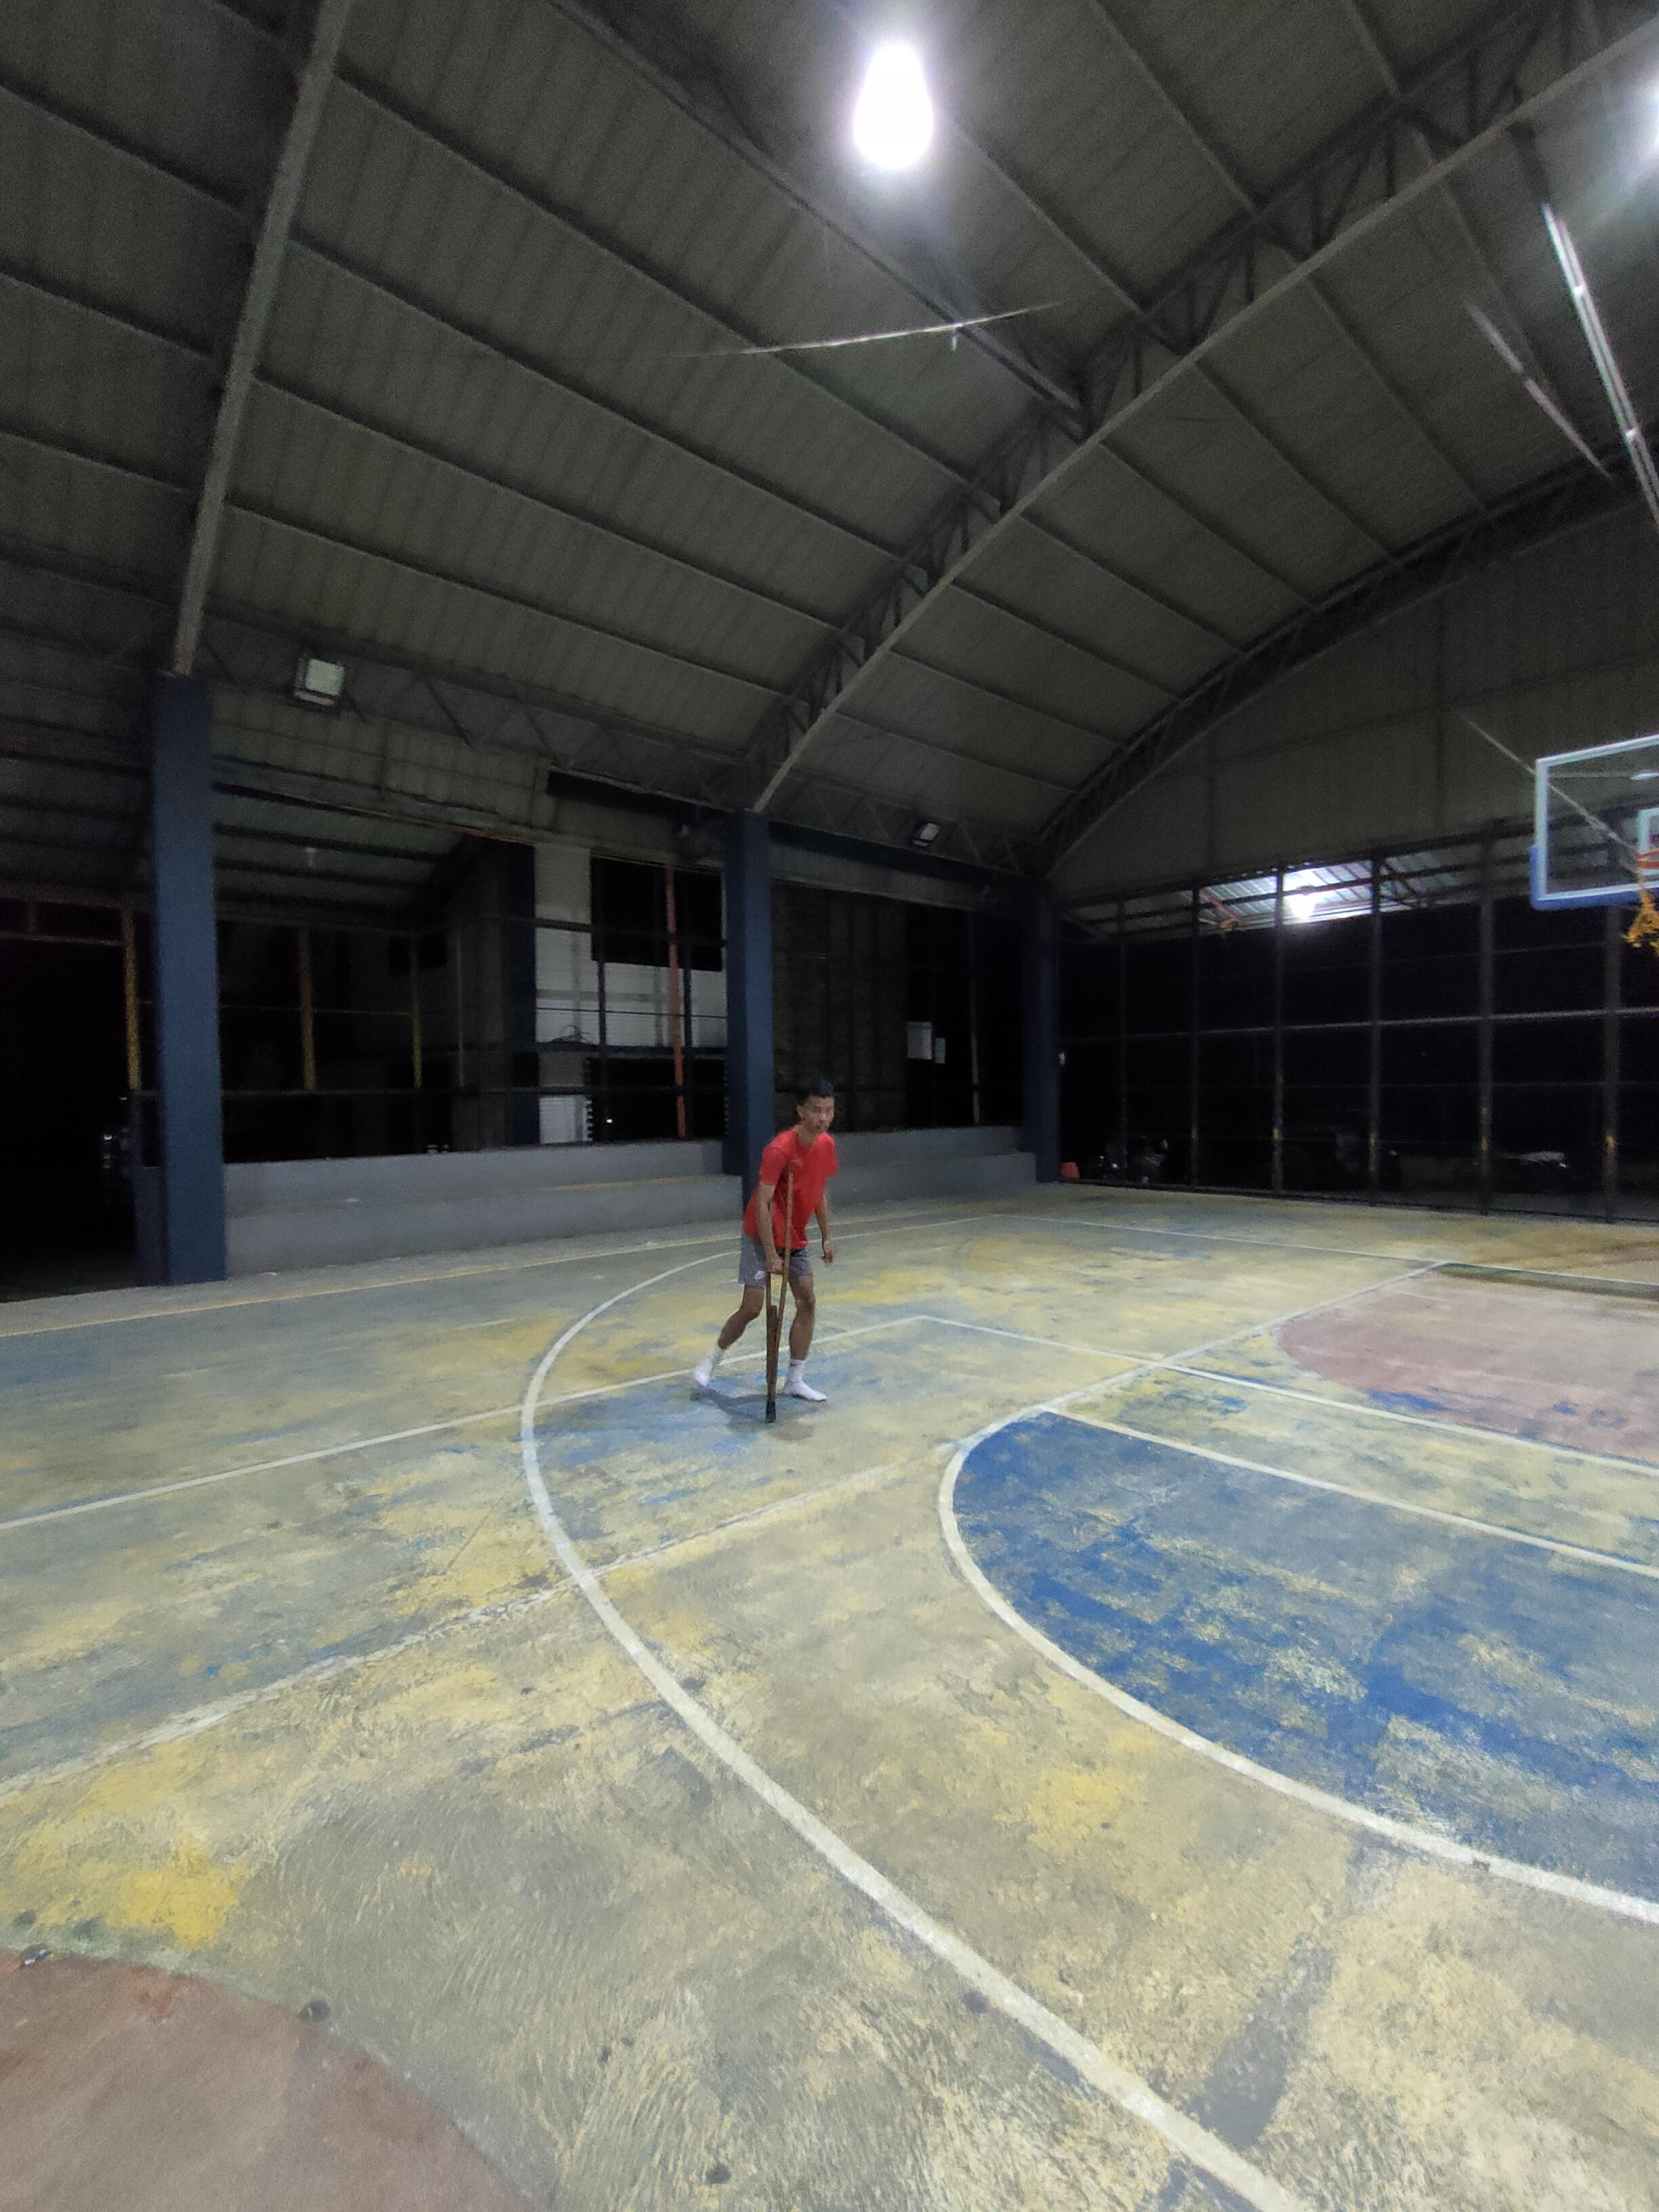crutches: (692, 1066, 859, 1432)
